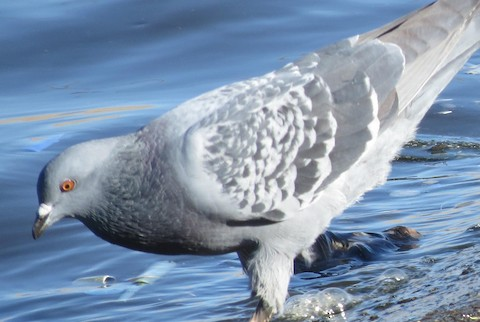pigeon: (28, 9, 468, 316)
